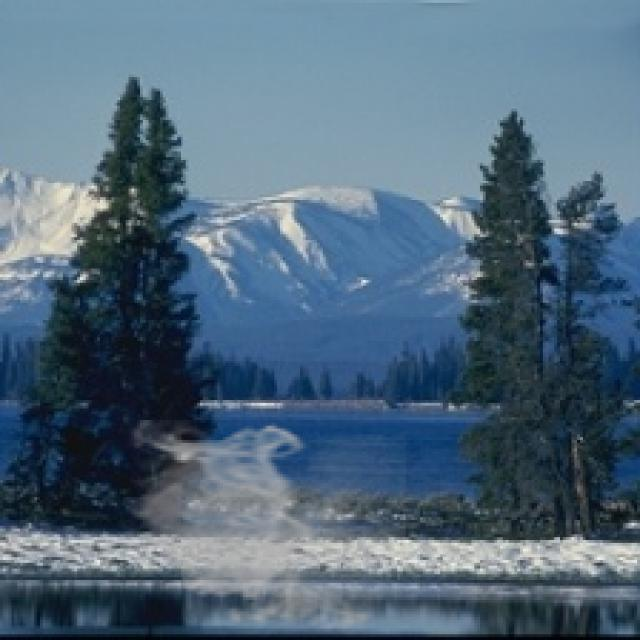Smoke: (123, 420, 406, 637)
